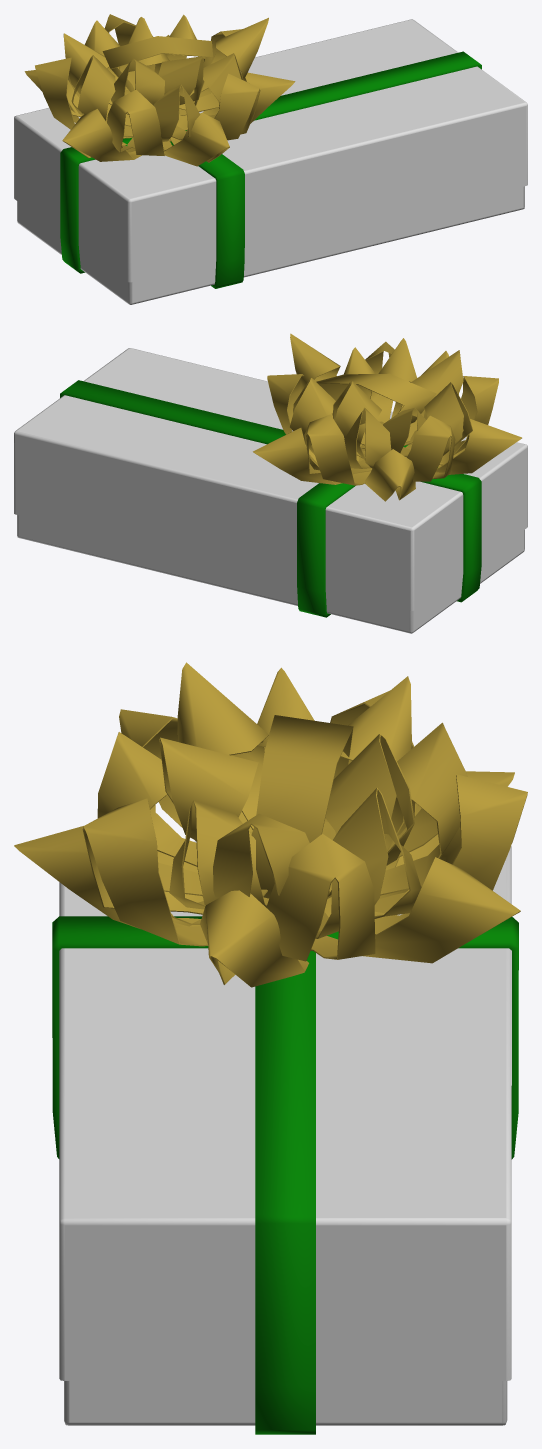
File: gift3.glb
3 renders of one model, top to bottom at view 1: azimuth 30°, elevation 25°; view 2: azimuth 150°, elevation 25°; view 3: azimuth 270°, elevation 25°, orthographic. The views are drawn at different scales.
Parts seen in each view (by area): view 1: Box07, Bow07, Ribbon07; view 2: Box07, Bow07, Ribbon07; view 3: Box07, Bow07, Ribbon07.
Part boxes in pixels (x1,y1,x2,y2): Box07: (14,19,527,304); Bow07: (24,14,295,166); Ribbon07: (60,51,481,288); Box07: (14,348,527,633); Bow07: (253,333,521,501); Ribbon07: (60,380,481,617); Box07: (59,841,511,1425); Bow07: (14,662,527,987); Ribbon07: (52,916,518,1434).
Size of the model in its own units: 0.1414 by 0.0685 by 0.0745.
